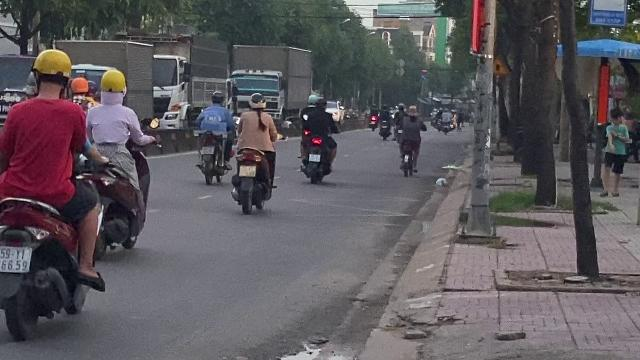helmet: (30, 48, 74, 96), (98, 68, 126, 104), (69, 76, 89, 100), (247, 92, 265, 110)
licenseplate: (0, 246, 30, 272), (239, 166, 255, 176)
motorcyclist: (1, 47, 113, 342), (80, 67, 154, 261), (230, 90, 280, 214)
